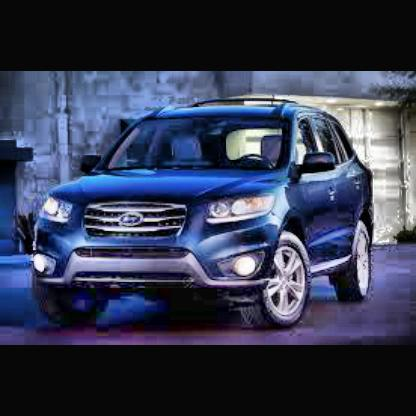Hyundai Santa Fe SUV 2012: (37, 96, 376, 316)
